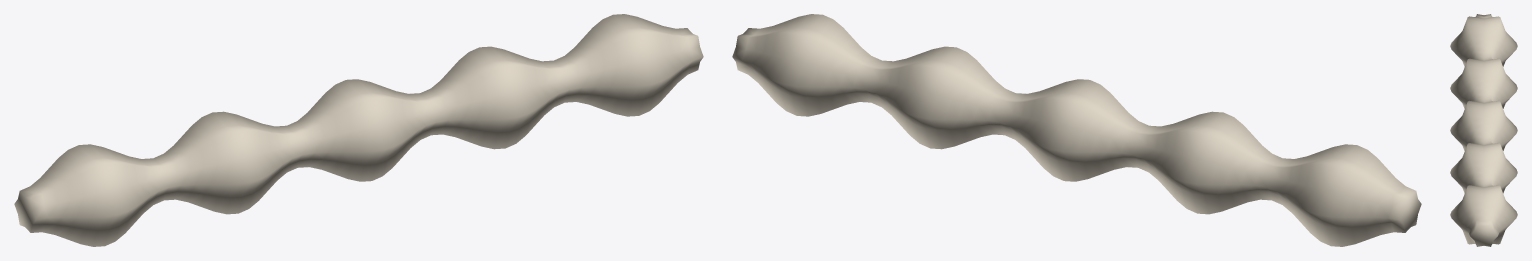
Rendered from PipedCream.fbx.
The picture shows the model from 3 angles, left to right: view 1: azimuth 30°, elevation 25°; view 2: azimuth 150°, elevation 25°; view 3: azimuth 270°, elevation 25°; orthographic projection. The views are drawn at different scales.
Visible parts, largest first — view 1: PipedCream; view 2: PipedCream; view 3: PipedCream.
Part boxes in pixels (x1,y1,x2,y2): PipedCream: [14, 14, 703, 246]; PipedCream: [732, 14, 1421, 246]; PipedCream: [1450, 14, 1517, 246].
Size of the model in its own units: 0.1 by 0.0117 by 0.0136.
